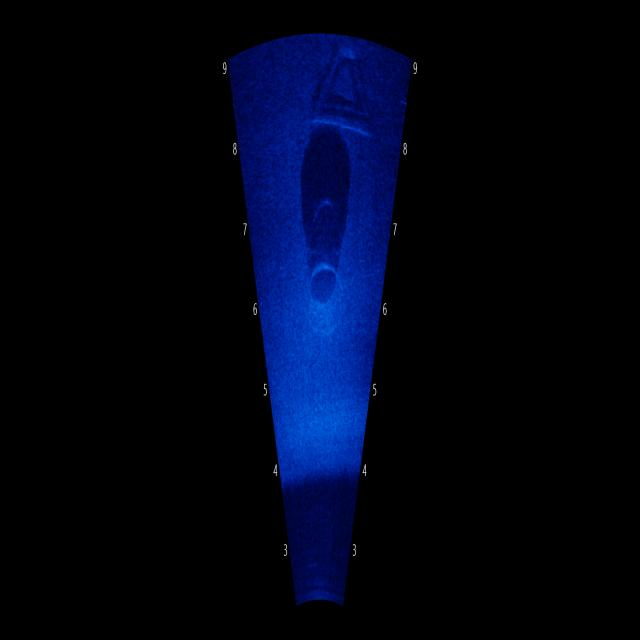circle: (297, 232, 350, 351)
triangle: (294, 33, 382, 161)
